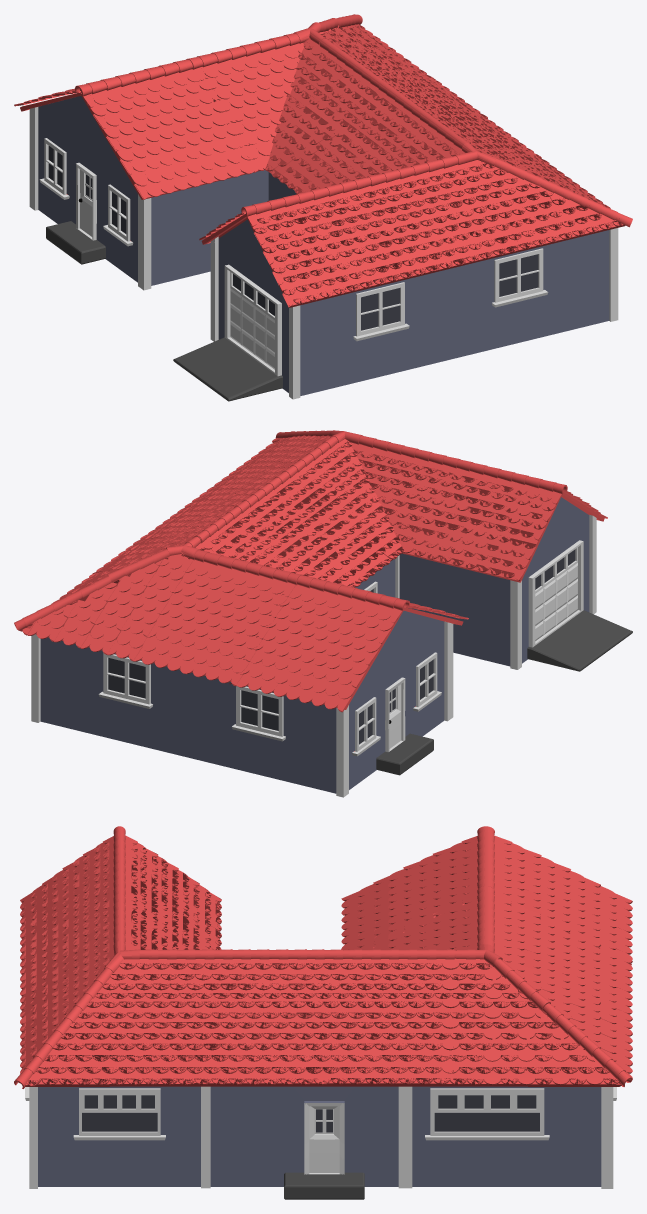
File: grey_house.fbx
The picture shows the model from 3 angles, top to bottom: view 1: azimuth 30°, elevation 25°; view 2: azimuth 150°, elevation 25°; view 3: azimuth 270°, elevation 25°; orthographic projection. The views are drawn at different scales.
Visible parts, largest first — view 1: house.003; view 2: house.003; view 3: house.003.
Boxes of the visible parts, <box> form: house.003: <box>14,14,632,401</box>; house.003: <box>14,430,632,797</box>; house.003: <box>14,826,632,1199</box>.
Size of the model in its own units: 1609 by 641 by 1956.
